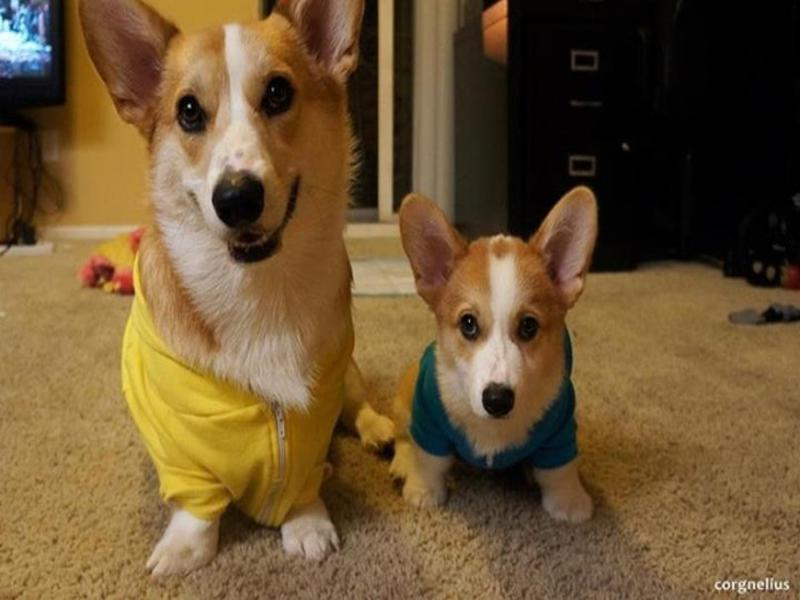corgi: (66, 3, 362, 267)
